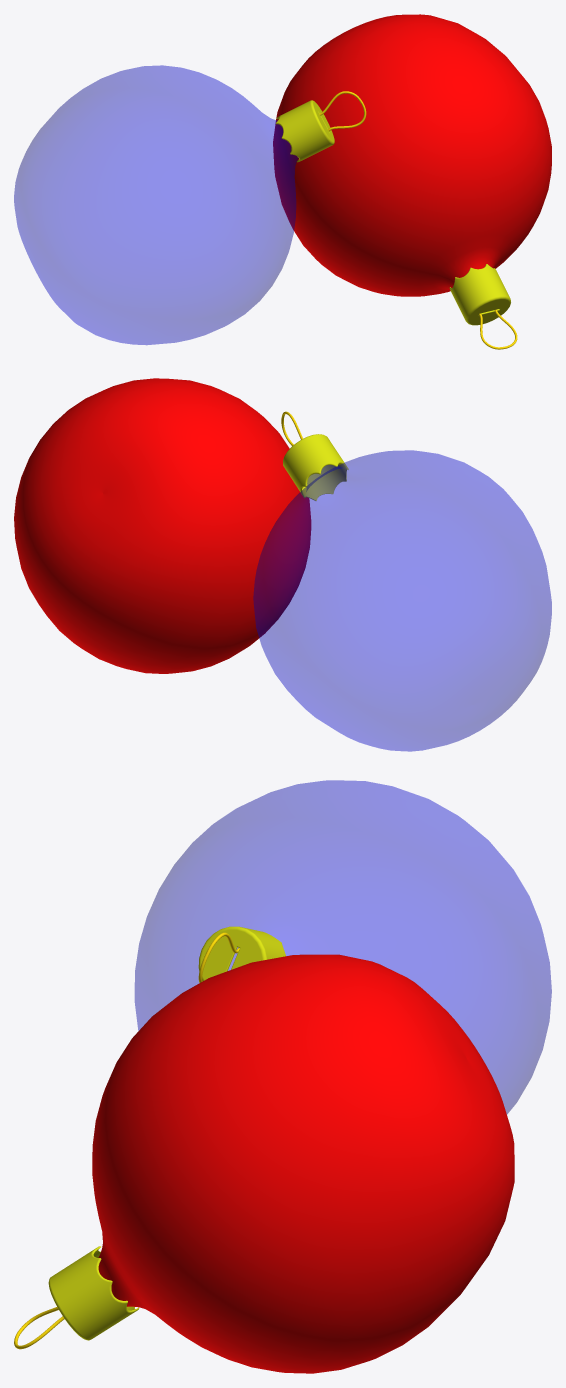
3 views of the same model, one above another, from view 1: azimuth 30°, elevation 25°; view 2: azimuth 150°, elevation 25°; view 3: azimuth 270°, elevation 25° (orthographic). The views are drawn at different scales.
Visible parts, largest first — view 1: Object_4, Object_5, Object_6; view 2: Object_4, Object_5, Object_6; view 3: Object_5, Object_4, Object_6.
Boxes of the visible parts, box(x1,y1,x2,y2) form: Object_4: box(14, 65, 298, 344); Object_5: box(273, 14, 551, 296); Object_6: box(276, 100, 510, 325); Object_4: box(253, 450, 551, 751); Object_5: box(14, 378, 311, 673); Object_6: box(283, 434, 348, 500); Object_5: box(92, 954, 514, 1373); Object_4: box(135, 780, 551, 1113); Object_6: box(48, 926, 285, 1340).
Bounding box in the file's own units: 296 × 149 × 190.
